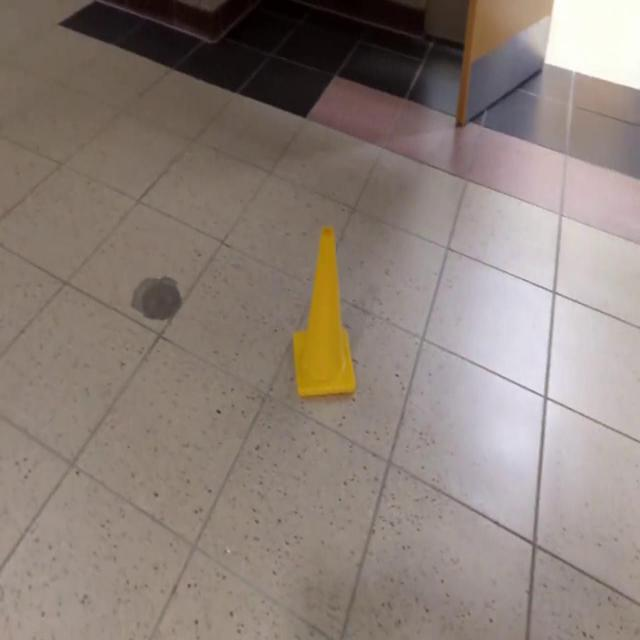frc_cone: (292, 224, 358, 401)
